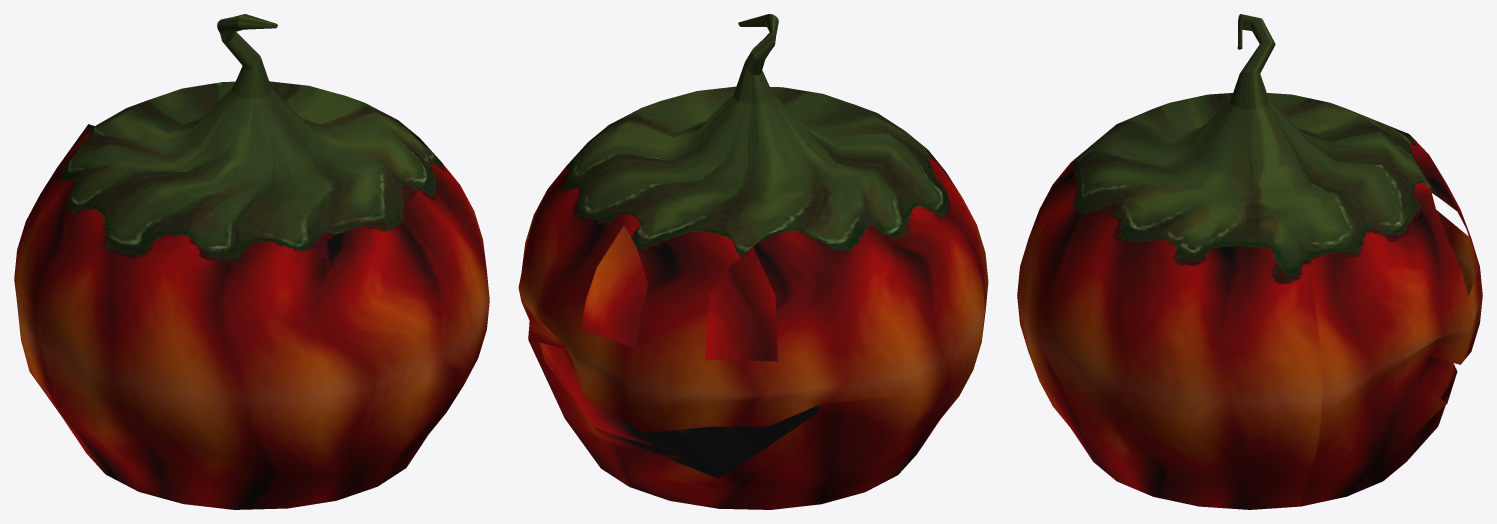
The model's file is BigPumpKin.fbx.
3 views of the same model, side by side, from view 1: azimuth 30°, elevation 25°; view 2: azimuth 150°, elevation 25°; view 3: azimuth 270°, elevation 25° (orthographic). The views are drawn at different scales.
Parts seen in each view (by area): view 1: pSphere2; view 2: pSphere2; view 3: pSphere2.
Part boxes in pixels (x1,y1,x2,y2): pSphere2: (14, 14, 489, 509); pSphere2: (518, 14, 988, 509); pSphere2: (1017, 14, 1482, 509).
Size of the model in its own units: 23.43 by 25.15 by 23.43.
1 material, 1 textured.
